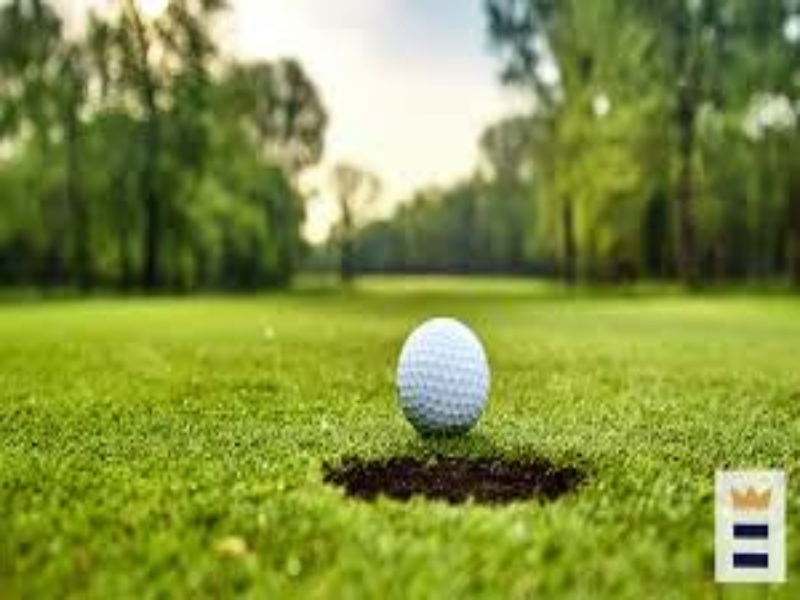golf_ball: (396, 317, 490, 438)
